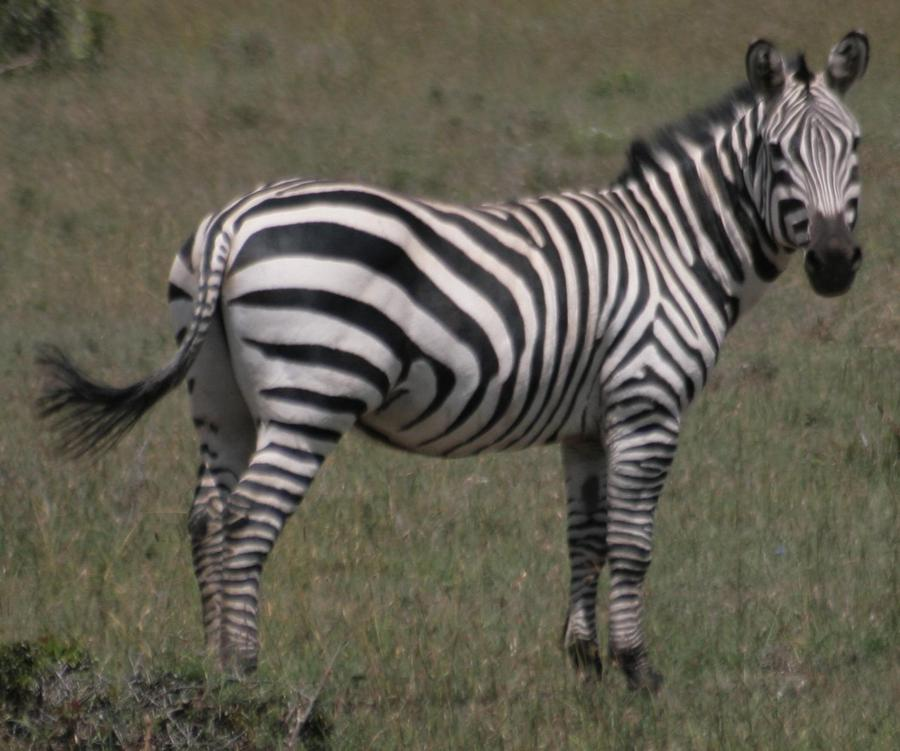zebra_plains: (203, 138, 724, 489)
